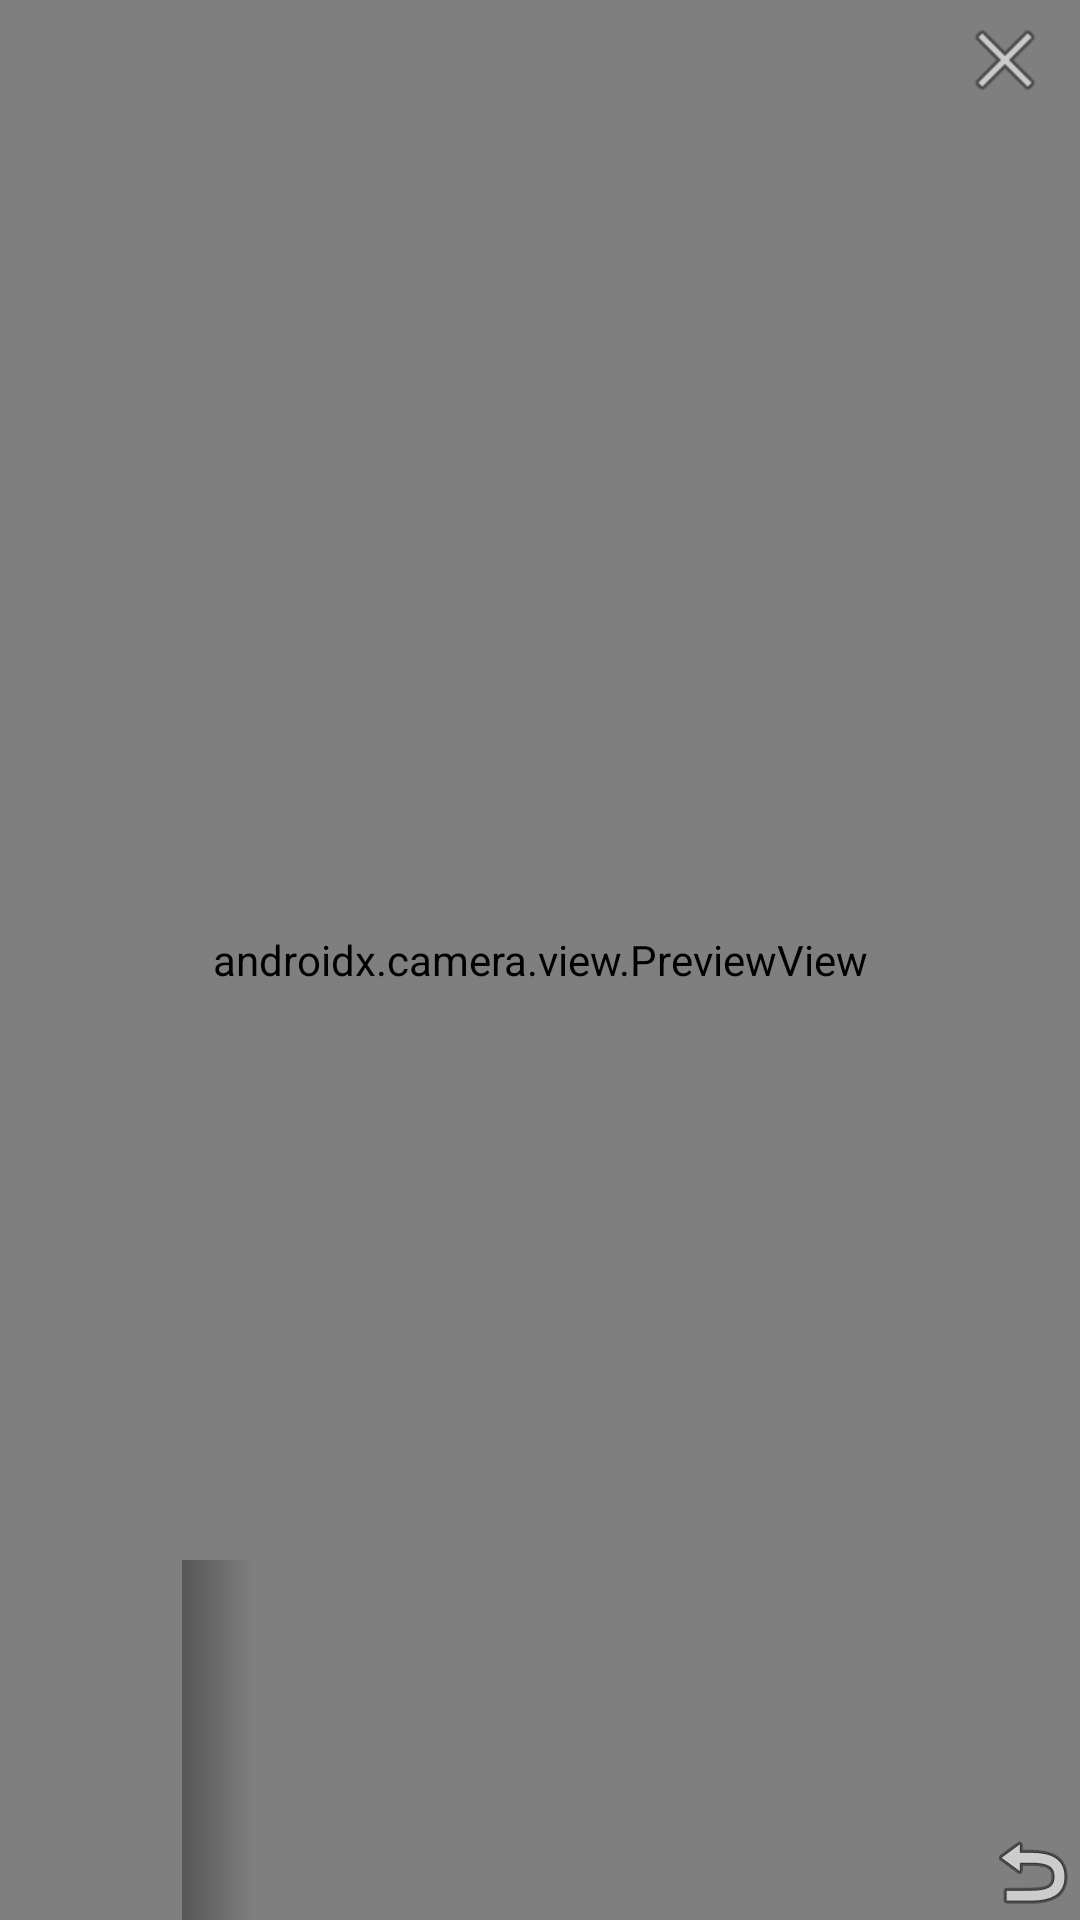

Icons on this 1080×1920 Android screen, each with its box as (x1, y1, x2, y2):
close clear cancel: (975, 30, 1035, 90)
revert: (999, 1842, 1068, 1904)
